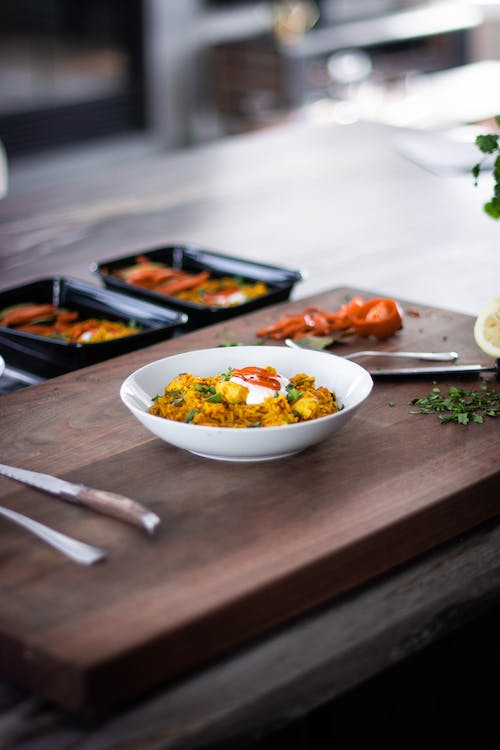knife: (0, 461, 166, 541)
